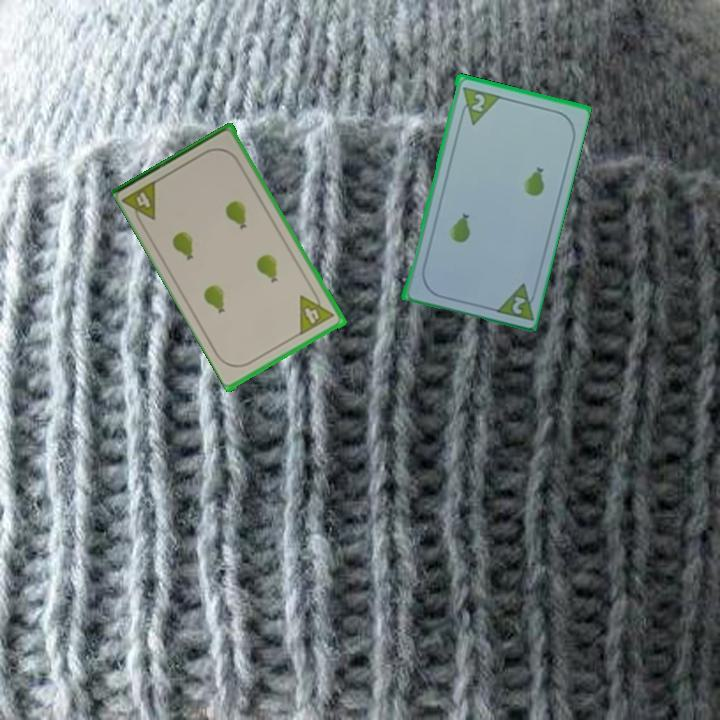2p: (490, 279, 540, 323), (468, 90, 488, 114)
4p: (120, 176, 161, 230), (296, 286, 338, 337)
